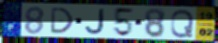5: (113, 7, 135, 38)
8: (143, 7, 167, 39), (24, 6, 46, 35)
D: (49, 7, 75, 35)
J: (84, 8, 107, 35)
Q: (169, 9, 195, 39)
